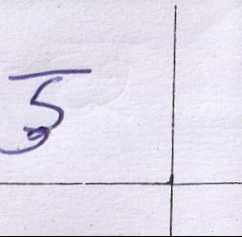u_matra: (0, 127, 52, 155)
